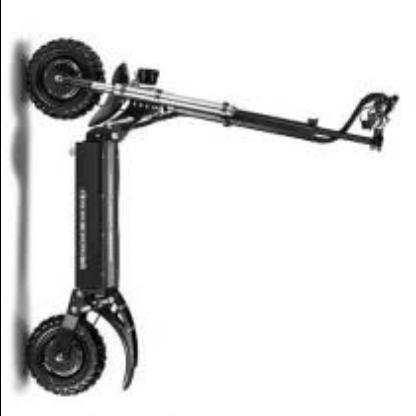bike: (23, 36, 410, 401)
